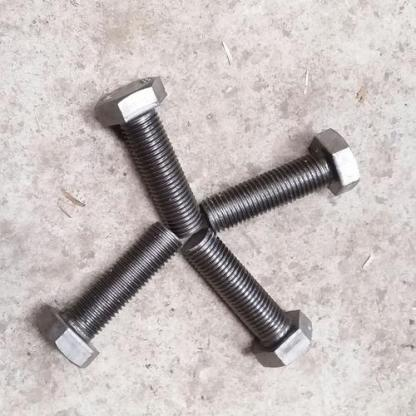FOD: (41, 224, 183, 370), (94, 73, 207, 240), (186, 231, 316, 371), (201, 125, 361, 232)
